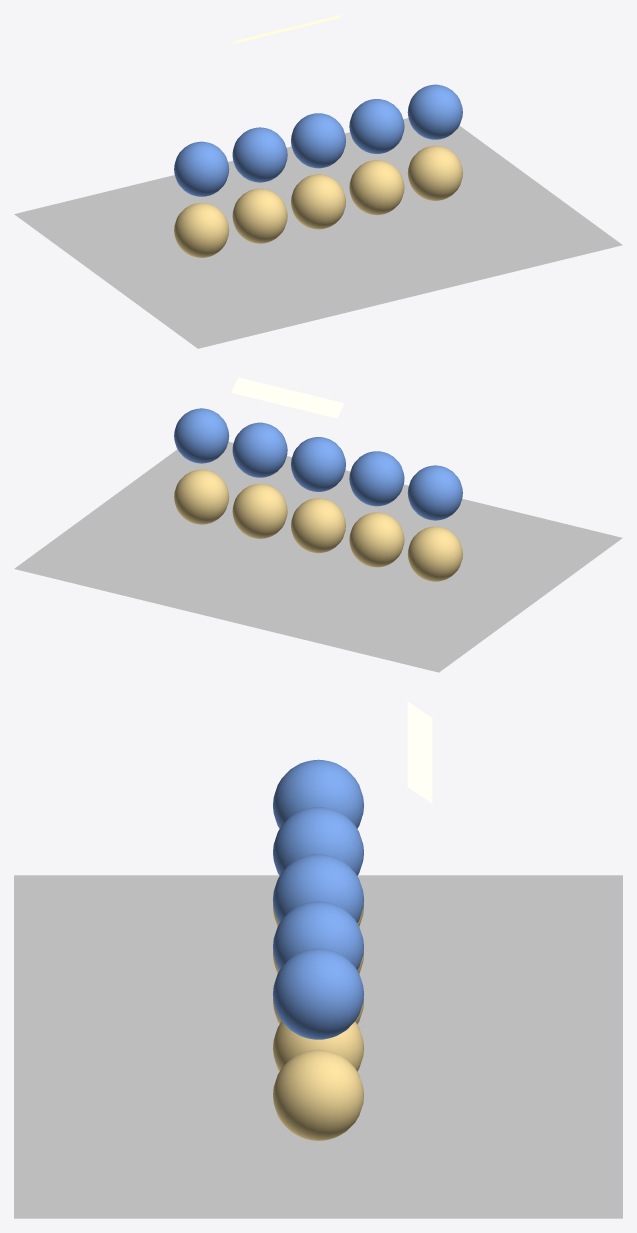
File: materials.glb
The picture shows the model from 3 angles, top to bottom: view 1: azimuth 30°, elevation 25°; view 2: azimuth 150°, elevation 25°; view 3: azimuth 270°, elevation 25°; orthographic projection. The views are drawn at different scales.
Visible parts, largest first — view 1: floor, spheres; view 2: floor, spheres, panel; view 3: floor, spheres, panel.
Part boxes in pixels (x1,y1,x2,y2): floor: (14, 118, 622, 348); spheres: (174, 84, 462, 257); floor: (14, 441, 622, 672); spheres: (174, 408, 462, 581); panel: (231, 377, 344, 418); floor: (14, 875, 622, 1218); spheres: (273, 759, 363, 1140); panel: (407, 701, 432, 803).
Bounding box in the file's own units: 8 × 3.29 × 6.
